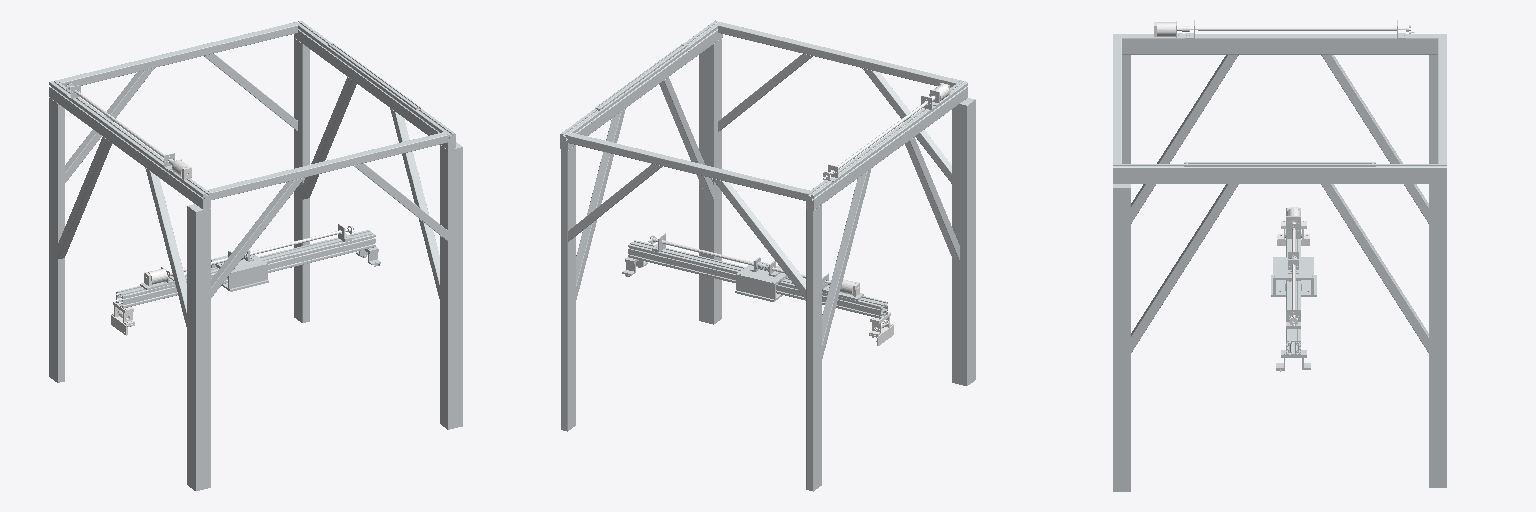
URDF robot description (gantry3):
<?xml version="1.0" encoding="utf-8"?>
<!-- This URDF was automatically created by SolidWorks to URDF Exporter! Originally created by [author] ([email redacted]) 
     Commit Version: 1.5.1-0-g916b5db  Build Version: 1.5.7152.31018
     For more information, please see http://wiki.ros.org/sw_urdf_exporter -->
<robot
  name="gantry3">
    <link name="base_link">
    <inertial>
      <origin
        xyz="1.1373 -1.2167 -0.13611"
        rpy="0 0 0" />
      <mass value="186.7" />
      <inertia
        ixx="40.848"
        ixy="-4.946E-10"
        ixz="2.713E-16"
        iyy="45.385"
        iyz="-2.7617E-15"
        izz="5.3511" />
    </inertial>
    <visual>
      <origin
        xyz="0 0 1.21"
        rpy="0 0 0" />
      <geometry>
        <mesh
          filename="package://gantry3/meshes/base_link.STL" />
      </geometry>
      <material
        name="">
        <color
          rgba="0.89804 0.91765 0.92941 1" />
      </material>
    </visual>
    <collision>
      <origin
        xyz="0 0 1.21"
        rpy="0 0 0" />
      <geometry>
        <mesh
          filename="package://gantry3/meshes/base_link.STL" />
      </geometry>
    </collision>
  </link>

  <link name="world">
  </link>

  <joint name="top_bar2world" type="fixed">
    <origin
      xyz="0 0 0"
      rpy="0 0 0" />
    <parent
      link="world" />
    <child
      link="base_link" />
 
  </joint>


  <link name="topbar">
    <inertial>
      <origin
        xyz="1.963 -0.99517 0.64426"
        rpy="0 0 0" />
      <mass
        value="22.364" />
      <inertia
        ixx="6.0555"
        ixy="9.2337E-18"
        ixz="-0.00046628"
        iyy="0.02232"
        iyz="3.5889E-16"
        izz="6.0426" />
    </inertial>
    <visual>
      <origin
        xyz="0 0 1.21"
        rpy="0 0 0" />
      <geometry>
        <mesh
          filename="package://gantry3/meshes/topbar.STL" />
      </geometry>
      <material
        name="">
        <color
          rgba="0.89804 0.91765 0.92941 1" />
      </material>
    </visual>
    <collision>
      <origin
        xyz="0 0 1.21"
        rpy="0 0 0" />
      <geometry>
        <mesh
          filename="package://gantry3/meshes/topbar.STL" />
      </geometry>
    </collision>
  </link>


  <joint name="f_topbar" type="fixed">
    <origin
      xyz="0 0 0"
      rpy="0 0 0" />
    <parent
      link="base_link" />
    <child
      link="topbar" />
    <axis
      xyz="0 0 0" />
  </joint>


  <link name="bottombar">
    <inertial>
      <origin
        xyz="0.31301 -0.99627 0.64521"
        rpy="0 0 0" />
      <mass
        value="22.642" />
      <inertia
        ixx="6.0557"
        ixy="8.3745E-18"
        ixz="-0.00046628"
        iyy="0.022609"
        iyz="1.1333E-05"
        izz="6.0427" />
    </inertial>
    <visual>
      <origin
        xyz="0 0 1.21"
        rpy="0 0 0" />
      <geometry>
        <mesh
          filename="package://gantry3/meshes/bottombar.STL" />
      </geometry>
      <material
        name="">
        <color
          rgba="0.89804 0.91765 0.92941 1" />
      </material>
    </visual>
    <collision>
      <origin
        xyz="0 0 1.21"
        rpy="0 0 0" />
      <geometry>
        <mesh
          filename="package://gantry3/meshes/bottombar.STL" />
      </geometry>
    </collision>
  </link>


  <joint name="f_bottombar" type="fixed">
    <origin
      xyz="0 0 0"
      rpy="0 0 0" />
    <parent
      link="base_link" />
    <child
      link="bottombar" />
    <axis
      xyz="0 0 0" />
  </joint>


  <link name="motor1">
    <inertial>
      <origin
        xyz="0.31228 -1.6046 0.73599"
        rpy="0 0 0" />
      <mass
        value="0.51016" />
      <inertia
        ixx="0.00067277"
        ixy="1.7812E-20"
        ixz="-7.5893E-08"
        iyy="0.00037685"
        iyz="-9.6171E-08"
        izz="0.00067152" />
    </inertial>
    <visual>
      <origin
        xyz="0 0 1.21"
        rpy="0 0 0" />
      <geometry>
        <mesh
          filename="package://gantry3/meshes/motor1.STL" />
      </geometry>
      <material
        name="">
        <color
          rgba="1 1 1 1" />
      </material>
    </visual>
    <collision>
      <origin
        xyz="0 0 1.21"
        rpy="0 0 0" />
      <geometry>
        <mesh
          filename="package://gantry3/meshes/motor1.STL" />
      </geometry>
    </collision>
  </link>


  <joint name="f_motor1" type="fixed">
    <origin
      xyz="0 0 0"
      rpy="0 0 0" />
    <parent
      link="bottombar" />
    <child
      link="motor1" />
    <axis
      xyz="0 0 0" />
  </joint>


  <link name="rod1">
    <inertial>
      <origin
        xyz="0.029371 -0.0099337 6.5141E-05"
        rpy="0 0 0" />
      <mass
        value="0.02709" />
      <inertia
        ixx="4.0541E-06"
        ixy="3.1885E-11"
        ixz="3.927E-11"
        iyy="4.5437E-05"
        iyz="1.3757E-10"
        izz="4.5437E-05" />
    </inertial>
    <visual>
      <origin
        xyz="0 -0.54 -1.085"
        rpy="0 0 0" />
      <geometry>
        <mesh
          filename="package://gantry3/meshes/rod1.STL" />
      </geometry>
      <material
        name="">
        <color
          rgba="1 1 1 1" />
      </material>
    </visual>
    <collision>
      <origin
        xyz="0 0 0"
        rpy="1.0472 0 0" />
      <geometry>
        <mesh
          filename="package://gantry3/meshes/rod1.STL" />
      </geometry>
    </collision>
  </link>


  <joint name="c_rod1" type="fixed">
    <origin
      xyz="0.32123 -1.5227 0.73154"
      rpy="-2.681 0 1.5708" />
    <parent
      link="motor1" />
    <child
      link="rod1" />
    <axis
      xyz="0 0 0" />
  </joint>


  <link name="slider">
    <inertial>
      <origin
        xyz="0.30906 -0.92117 0.75747"
        rpy="0 0 0" />
      <mass
        value="1.8544" />
      <inertia
        ixx="0.0032532"
        ixy="2.0988E-07"
        ixz="-4.5186E-05"
        iyy="0.00081152"
        iyz="1.6779E-07"
        izz="0.003516" />
    </inertial>
    <visual>
      <origin
        xyz="0 0 0"
        rpy="0 0 0" />
      <geometry>
        <mesh
          filename="package://gantry3/meshes/slider.STL" />
      </geometry>
      <material
        name="">
        <color
          rgba="1 1 1 1" />
      </material>
    </visual>
    <collision>
      <origin
        xyz="0 0 0"
        rpy="0 0 0" />
      <geometry>
        <mesh
          filename="package://gantry3/meshes/slider.STL" />
      </geometry>
    </collision>
  </link>

  
  <joint name="p_slider" type="prismatic">
    <origin
      xyz="1.5227 0.037393 0.79809"
      rpy="-3.1416 0.46059 1.5708" />
    <parent
      link="rod1" />
    <child
      link="slider" />
    <axis
      xyz="0 1 0" />
    <limit
      lower="-0.4"
      upper="0.4"
      effort="50"
      velocity="0.05" />
  </joint>


  <link name="motion1">
    <inertial>
      <origin
        xyz="1.2278 -0.92126 0.83296"
        rpy="0 0 0" />
      <mass
        value="10.436" />
      <inertia
        ixx="0.014954"
        ixy="3.5435E-07"
        ixz="1.4935E-05"
        iyy="1.893"
        iyz="8.4614E-06"
        izz="1.8953" />
    </inertial>
    <visual>
      <origin
        xyz="0 0 0"
        rpy="0 0 0" />
      <geometry>
        <mesh
          filename="package://gantry3/meshes/motion1.STL" />
      </geometry>
      <material
        name="">
        <color
          rgba="0.89804 0.91765 0.92941 1" />
      </material>
    </visual>
    <collision>
      <origin
        xyz="0 0 0"
        rpy="0 0 0" />
      <geometry>
        <mesh
          filename="package://gantry3/meshes/motion1.STL" />
      </geometry>
    </collision>
  </link>


  <joint name="f_motion1" type="fixed">
    <origin
      xyz="0 0 0"
      rpy="0 0 0" />
    <parent
      link="slider" />
    <child
      link="motion1" />
    <axis
      xyz="0 0 0" />
  </joint>


  <link name="motor2">
    <inertial>
      <origin
        xyz="0.53509 -0.92118 0.92741"
        rpy="0 0 0" />
      <mass
        value="0.512" />
      <inertia
        ixx="0.00037705"
        ixy="9.6148E-08"
        ixz="-2.118E-09"
        iyy="0.00067285"
        iyz="4.946E-08"
        izz="0.00067164" />
    </inertial>
    <visual>
      <origin
        xyz="0 0 0"
        rpy="0 0 0" />
      <geometry>
        <mesh
          filename="package://gantry3/meshes/motor2.STL" />
      </geometry>
      <material
        name="">
        <color
          rgba="1 1 1 1" />
      </material>
    </visual>
    <collision>
      <origin
        xyz="0 0 0"
        rpy="0 0 0" />
      <geometry>
        <mesh
          filename="package://gantry3/meshes/motor2.STL" />
      </geometry>
    </collision>
  </link>


  <joint name="f_motor2" type="fixed">
    <origin
      xyz="0 0 0"
      rpy="0 0 0" />
    <parent
      link="motion1" />
    <child
      link="motor2" />
    <axis
      xyz="0 0 0" />
  </joint>


  <link name="rod2">
    <inertial>
      <origin
        xyz="1.1761 -9.1529E-05 1.624E-05"
        rpy="0 0 0" />
      <mass
        value="0.02709" />
      <inertia
        ixx="4.0541E-06"
        ixy="4.8609E-11"
        ixz="-1.4106E-11"
        iyy="4.5437E-05"
        iyz="-3.8569E-11"
        izz="4.5437E-05" />
    </inertial>
    <visual>
      <origin
        xyz="0 0 0"
        rpy="0 0 0" />
      <geometry>
        <mesh
          filename="package://gantry3/meshes/rod2.STL" />
      </geometry>
      <material
        name="">
        <color
          rgba="1 1 1 1" />
      </material>
    </visual>
    <collision>
      <origin
        xyz="0 0 0"
        rpy="0 0 0" />
      <geometry>
        <mesh
          filename="package://gantry3/meshes/rod2.STL" />
      </geometry>
    </collision>
  </link>


  <joint name="c_rod2" type="fixed">
    <origin
      xyz="1.8228 -0.92118 0.92741"
      rpy="1.5708 0 3.1416" />
    <parent
      link="motor2" />
    <child
      link="rod2" />
    <axis
      xyz="0 0 0" />
  </joint>


  <link name="motion2">
    <inertial>
      <origin
        xyz="1.0911 -0.92118 0.84027"
        rpy="0 0 0" />
      <mass
        value="6.7714" />
      <inertia
        ixx="0.020382"
        ixy="-2.0988E-07"
        ixz="-1.7396E-07"
        iyy="0.037089"
        iyz="-4.352E-11"
        izz="0.054369" />
    </inertial>
    <visual>
      <origin
        xyz="0 0 0"
        rpy="0 0 0" />
      <geometry>
        <mesh
          filename="package://gantry3/meshes/motion2.STL" />
      </geometry>
      <material
        name="">
        <color
          rgba="0.89804 0.91765 0.92941 1" />
      </material>
    </visual>
    <collision>
      <origin
        xyz="0 0 0"
        rpy="0 0 0" />
      <geometry>
        <mesh
          filename="package://gantry3/meshes/motion2.STL" />
      </geometry>
    </collision>
  </link>


  <joint name="p_motion2" type="prismatic">
    <origin
      xyz="1.8228 -0.92741 0.92118"
      rpy="1.5708 0 3.1416" />
    <parent
      link="rod2" />
    <child
      link="motion2" />
    <axis
      xyz="1 0 0" />
    <limit
      lower="-0.4"
      upper="0.4"
      effort="50"
      velocity="0.05" />
  </joint>
</robot>

--- Facts derived from the render (not from the file) ---
The picture shows the robot from 3 angles, left to right: view 1: azimuth 30°, elevation 25°; view 2: azimuth 150°, elevation 25°; view 3: azimuth 270°, elevation 25°; orthographic projection.
Model gantry3 with 11 links and 10 joints (2 prismatic, 8 fixed), rooted at world, posed every joint at zero.
Links seen in each view (by area): view 1: base_link, bottombar, motion1, topbar, motion2; view 2: base_link, motion1, bottombar, topbar, motion2; view 3: base_link, topbar, bottombar, motion1, motion2, rod1.
Link boxes in pixels (x1=…): base_link: x1=49, y1=22, x2=462, y2=490; bottombar: x1=49, y1=80, x2=210, y2=209; motion1: x1=116, y1=224, x2=380, y2=308; topbar: x1=294, y1=21, x2=455, y2=149; motion2: x1=211, y1=250, x2=268, y2=291; base_link: x1=561, y1=22, x2=975, y2=491; motion1: x1=622, y1=233, x2=887, y2=318; bottombar: x1=806, y1=80, x2=967, y2=210; topbar: x1=560, y1=20, x2=722, y2=150; motion2: x1=735, y1=257, x2=787, y2=301; base_link: x1=1113, y1=38, x2=1446, y2=491; topbar: x1=1113, y1=162, x2=1446, y2=183; bottombar: x1=1113, y1=20, x2=1446, y2=54; motion1: x1=1276, y1=208, x2=1310, y2=371; motion2: x1=1271, y1=252, x2=1316, y2=296; rod1: x1=1182, y1=24, x2=1414, y2=33.
Size in the robot's own frame: 1.8 by 1.8 by 1.98 metres.
Meshes: 10 distinct files referenced, 10 mesh visuals loaded (10 binary STL).